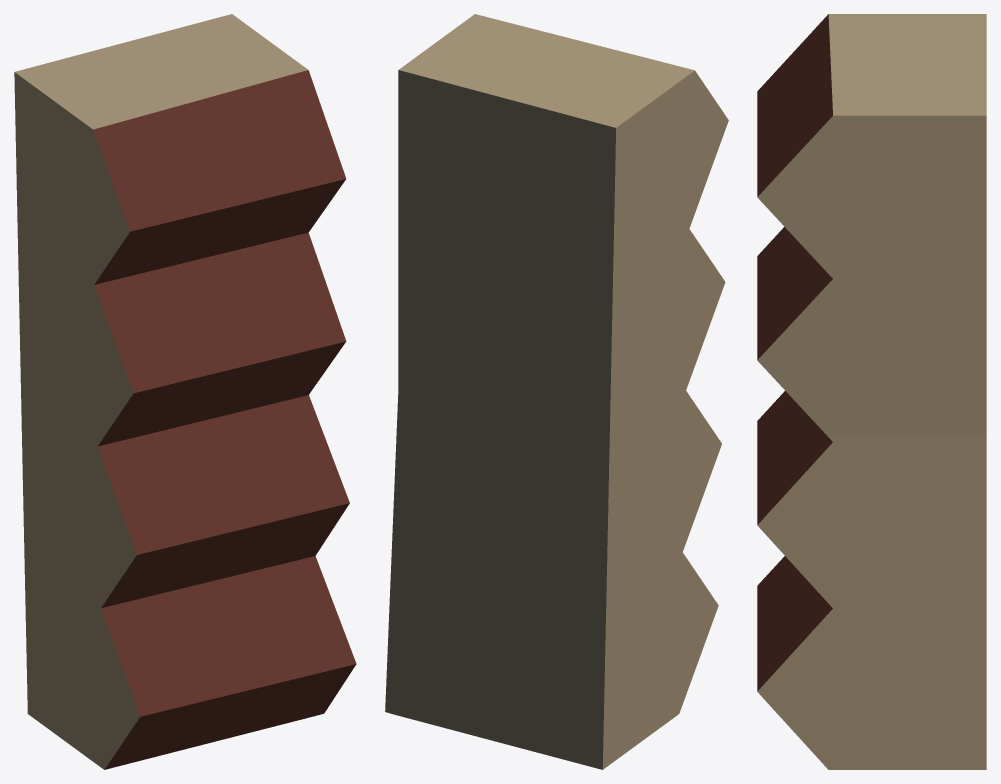
Rendered from SM_GLMedieval_NorthMarketMassing_west_736fd5c6.obj.
The picture shows the model from 3 angles, left to right: view 1: azimuth 30°, elevation 25°; view 2: azimuth 150°, elevation 25°; view 3: azimuth 270°, elevation 25°; orthographic projection.
Size of the model in its own units: 12.55 by 33.73 by 10.75.
